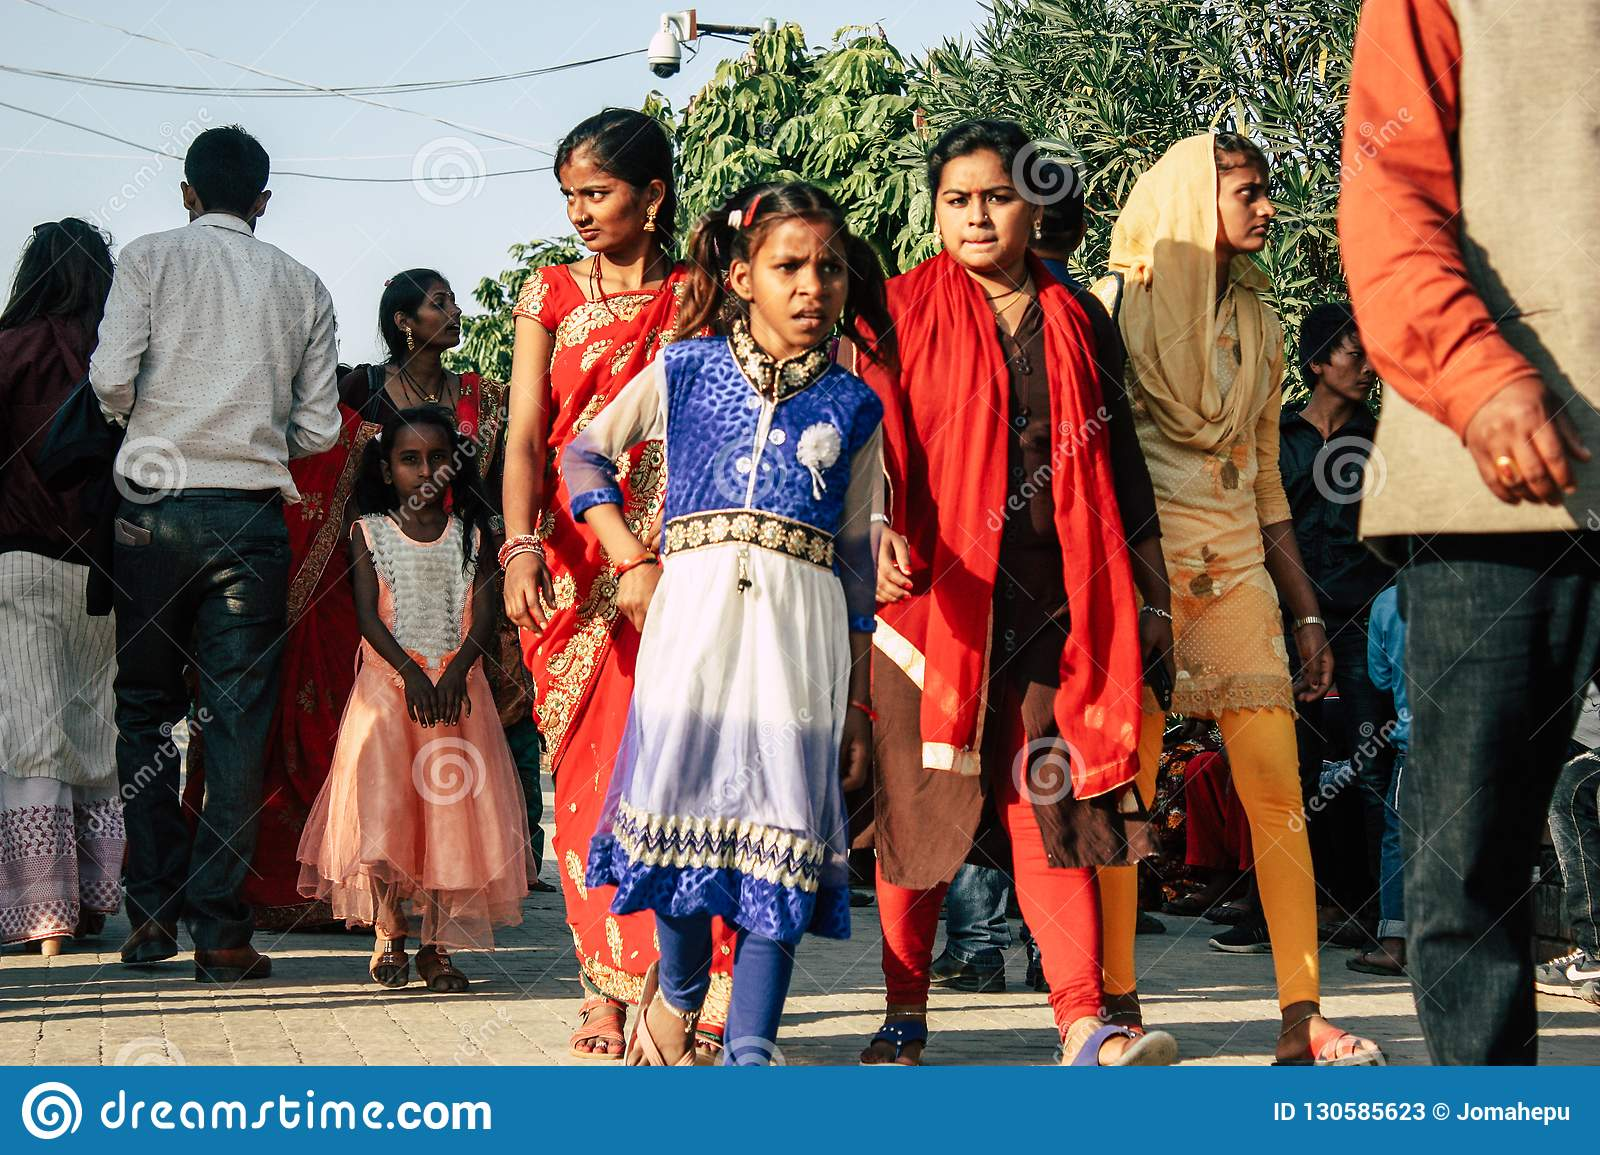human: (851, 107, 1181, 1077), (501, 91, 795, 1080), (552, 176, 876, 1068), (1104, 97, 1386, 1085), (82, 98, 344, 1004), (295, 393, 562, 1004)
